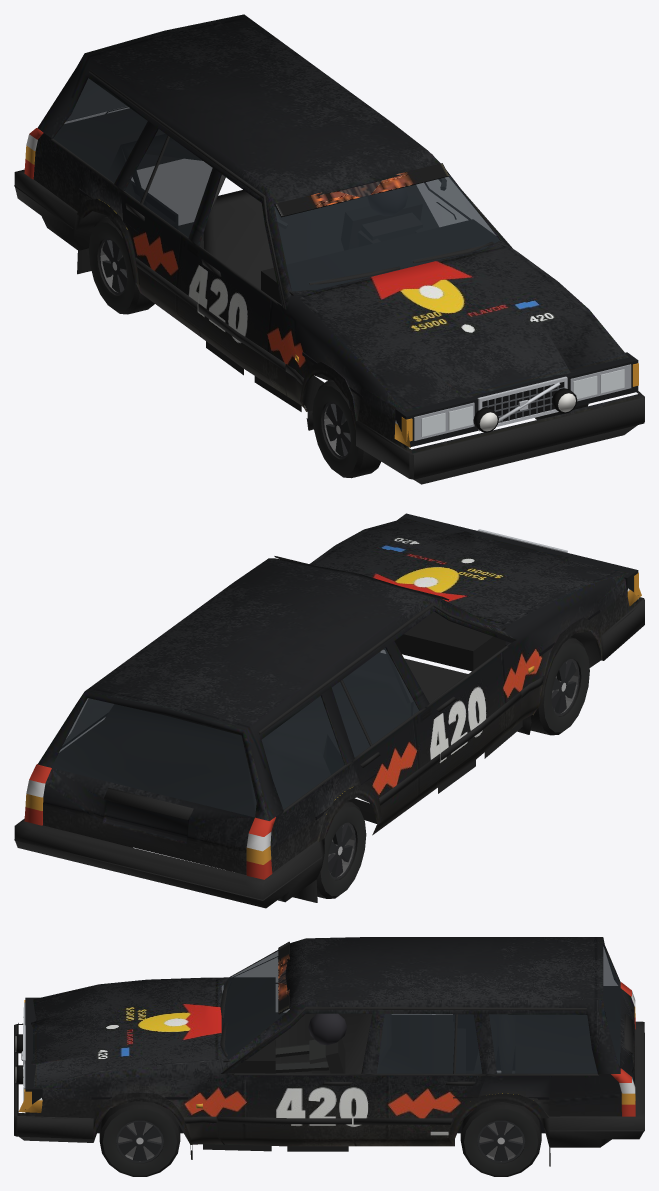
3 views of the same model, one above another, from view 1: azimuth 30°, elevation 25°; view 2: azimuth 150°, elevation 25°; view 3: azimuth 270°, elevation 25° (orthographic). The views are drawn at different scales.
Visible parts, largest first — view 1: body, wheel_fr, wheel_rr; view 2: body, wheel_fr, wheel_rr; view 3: body, wheel_fl, wheel_rl.
Part boxes in pixels (x1,y1,x2,y2): body: [14, 14, 644, 484]; wheel_fr: [312, 380, 381, 478]; wheel_rr: [88, 216, 154, 314]; body: [14, 513, 644, 908]; wheel_fr: [530, 637, 589, 735]; wheel_rr: [317, 801, 366, 898]; body: [14, 937, 644, 1166]; wheel_fl: [99, 1101, 180, 1176]; wheel_rl: [460, 1102, 541, 1176].
Size of the model in its own units: 1.78 by 1.41 by 4.84.
3 materials, 2 textured.
